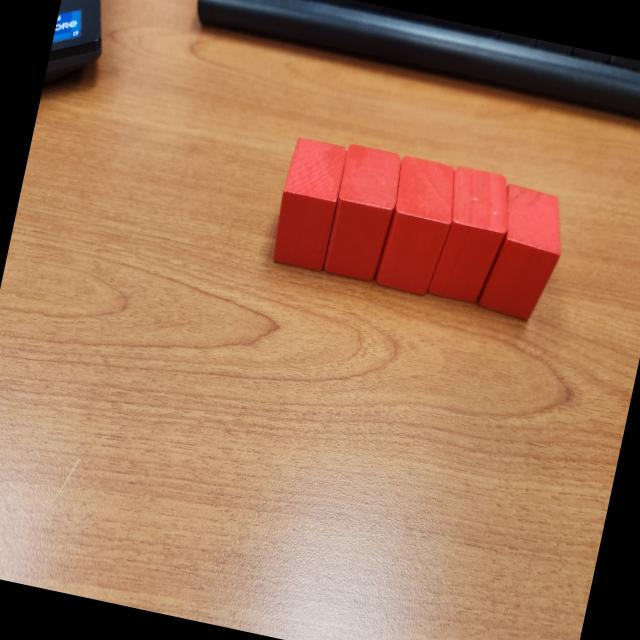red: (474, 182, 572, 324), (426, 164, 518, 308), (373, 154, 463, 301), (320, 137, 407, 285), (268, 133, 349, 274)
